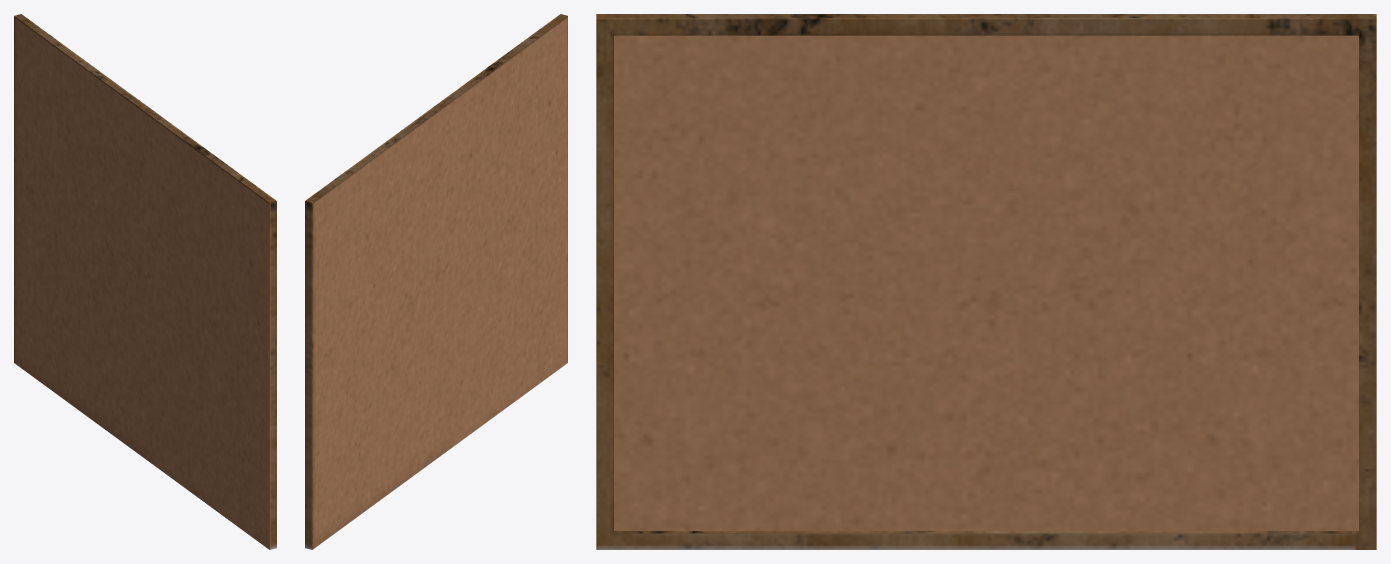
File: bulletin.glb
3 views of the same model, side by side, from view 1: azimuth 30°, elevation 25°; view 2: azimuth 150°, elevation 25°; view 3: azimuth 270°, elevation 25° (orthographic). The views are drawn at different scales.
Visible parts, largest first — view 1: NoticeBoard; view 2: NoticeBoard; view 3: NoticeBoard.
Part boxes in pixels (<box>): NoticeBoard: <box>14,14,276,549</box>; NoticeBoard: <box>305,14,567,549</box>; NoticeBoard: <box>596,14,1376,549</box>.
Size of the model in its own units: 0.026 by 1.17 by 1.56.
Materials: 1 (1 with a texture image).
